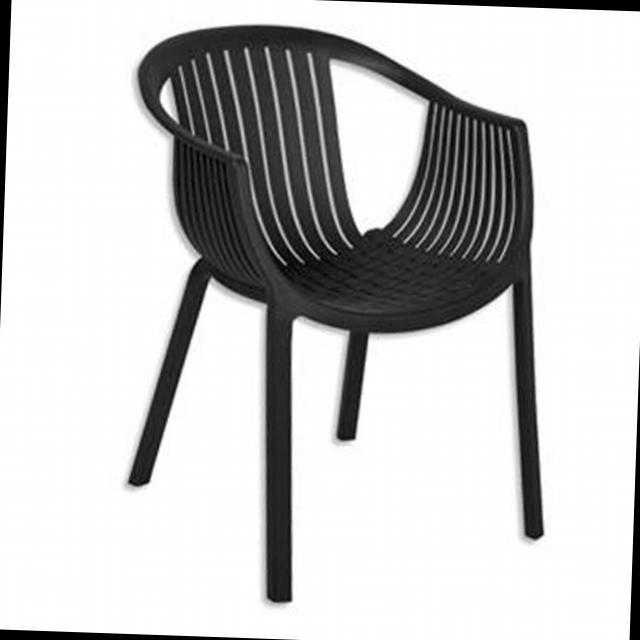chair: (117, 16, 565, 614)
